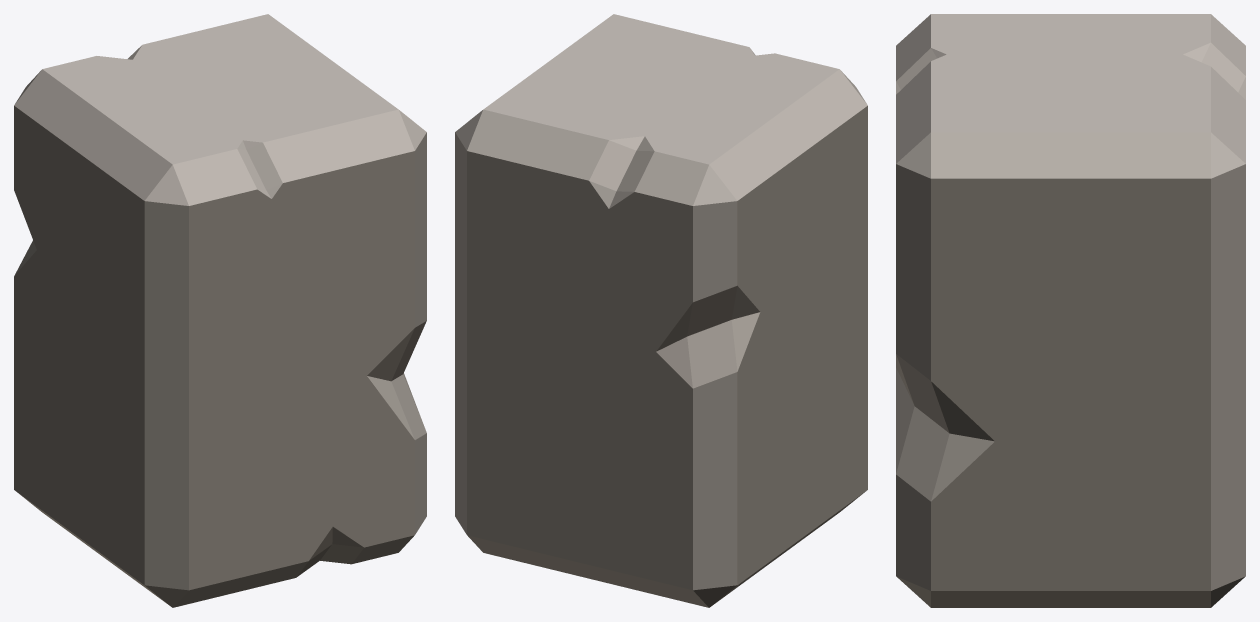
Rendered from m_kub_stone_vrickMid.FBX.
The picture shows the model from 3 angles, left to right: view 1: azimuth 30°, elevation 25°; view 2: azimuth 150°, elevation 25°; view 3: azimuth 270°, elevation 25°; orthographic projection. The views are drawn at different scales.
Visible parts, largest first — view 1: m_kub_stone_vrickMid; view 2: m_kub_stone_vrickMid; view 3: m_kub_stone_vrickMid.
Boxes of the visible parts, bbox=[...] form: m_kub_stone_vrickMid: bbox=[14, 14, 426, 607]; m_kub_stone_vrickMid: bbox=[455, 14, 867, 607]; m_kub_stone_vrickMid: bbox=[896, 14, 1245, 607].
Bounding box in the file's own units: 1 × 1.5 × 1.
